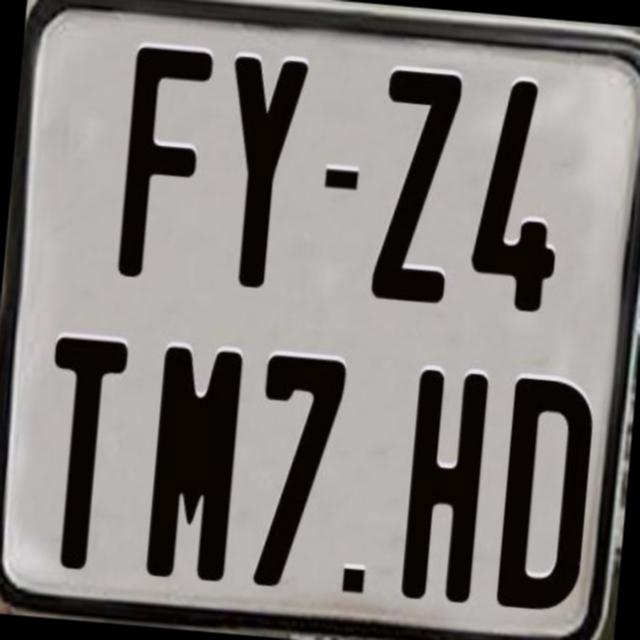4: (463, 76, 568, 311)
7: (247, 354, 350, 595)
D: (492, 375, 600, 621)
F: (115, 45, 214, 288)
H: (400, 366, 490, 601)
M: (142, 343, 242, 590)
T: (33, 332, 131, 570)
Y: (211, 50, 307, 287)
Z: (370, 64, 462, 300)
